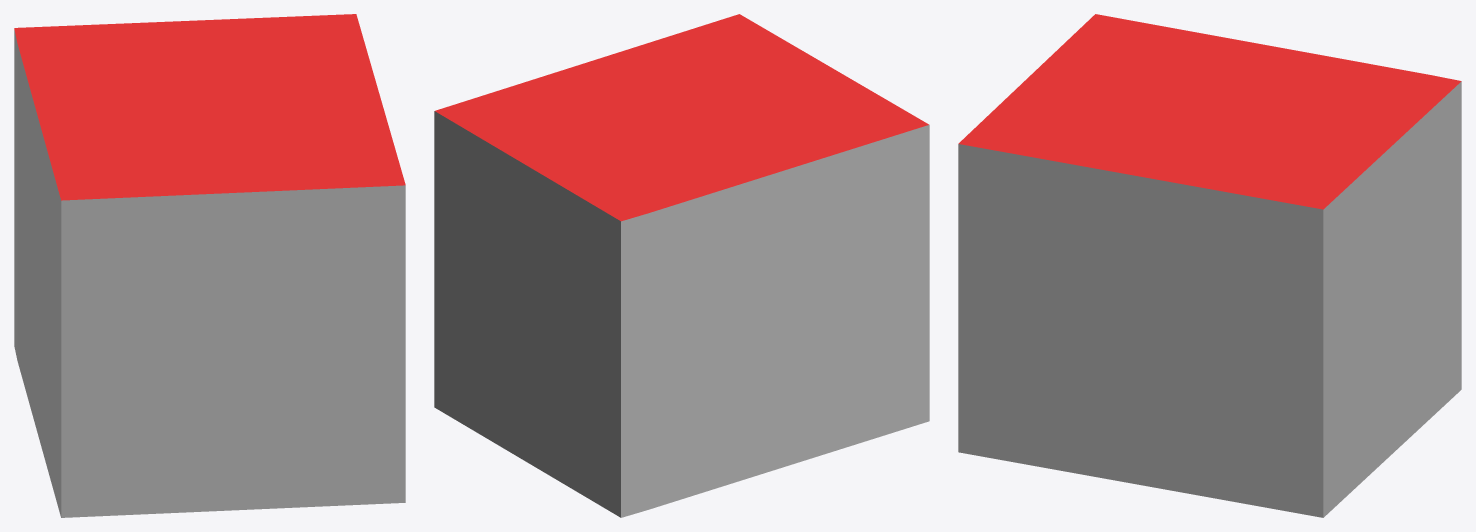
File: DEBY_LOD2_4908041.dae
3 views of the same model, side by side, from view 1: azimuth 30°, elevation 25°; view 2: azimuth 150°, elevation 25°; view 3: azimuth 270°, elevation 25° (orthographic). The views are drawn at different scales.
Bounding box in the file's own units: 4.08 × 4.44 × 3.
